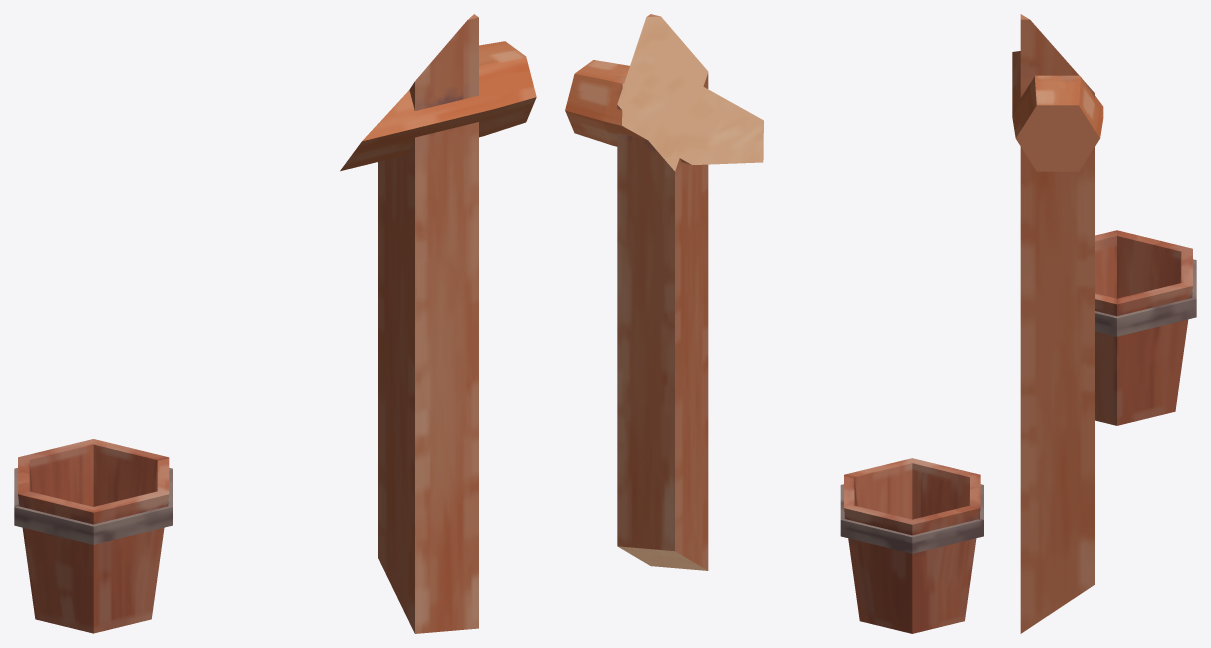
Rendered from well_s07.fbx.
3 renders of one model, left to right at view 1: azimuth 30°, elevation 25°; view 2: azimuth 150°, elevation 25°; view 3: azimuth 270°, elevation 25°, orthographic. The views are drawn at different scales.
Visible parts, largest first — view 1: well_s07; view 2: well_s07; view 3: well_s07.
Boxes of the visible parts, x1,y1,x2,y2 form: well_s07: (14, 14, 536, 633); well_s07: (565, 14, 983, 633); well_s07: (1012, 14, 1196, 633).
Bounding box in the file's own units: 3.25 × 4.01 × 1.09.
